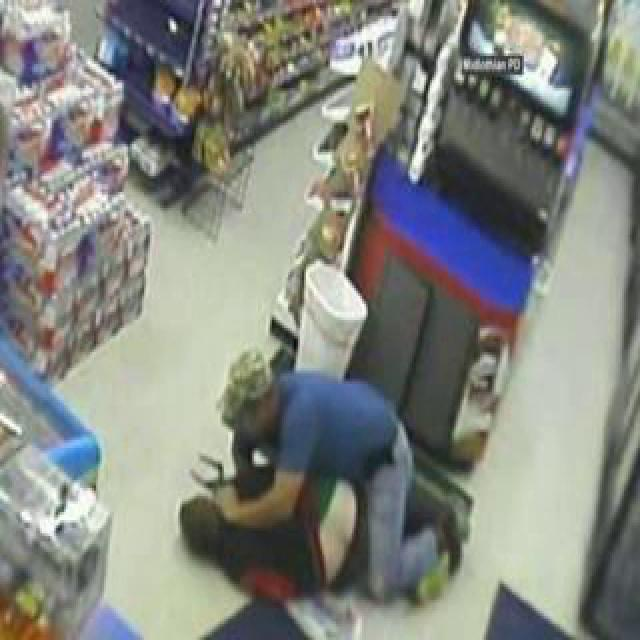arrest: (146, 220, 463, 640)
